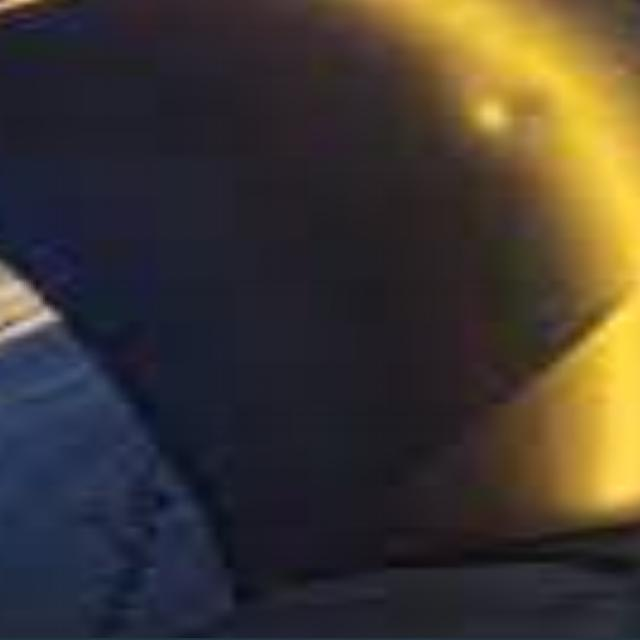dents: (444, 82, 606, 170)
